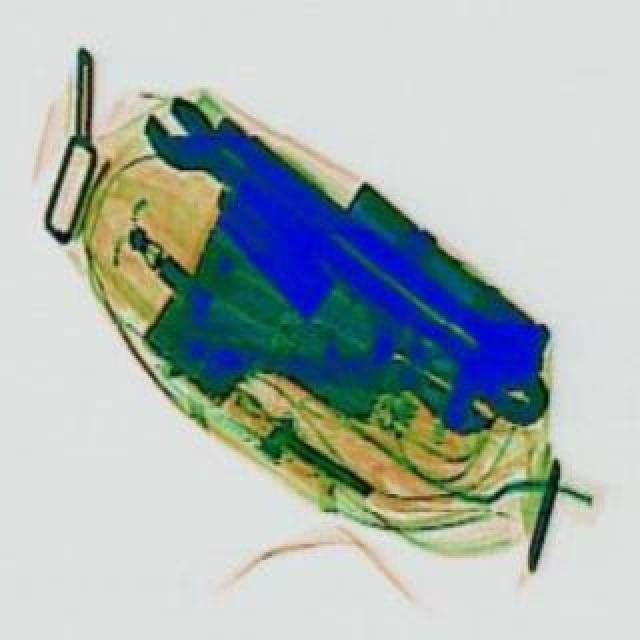scissors: (124, 92, 560, 448)
